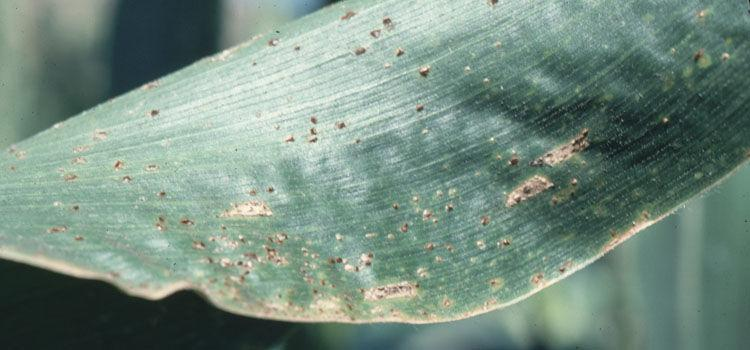Corn rust leaf: (1, 1, 749, 339)
